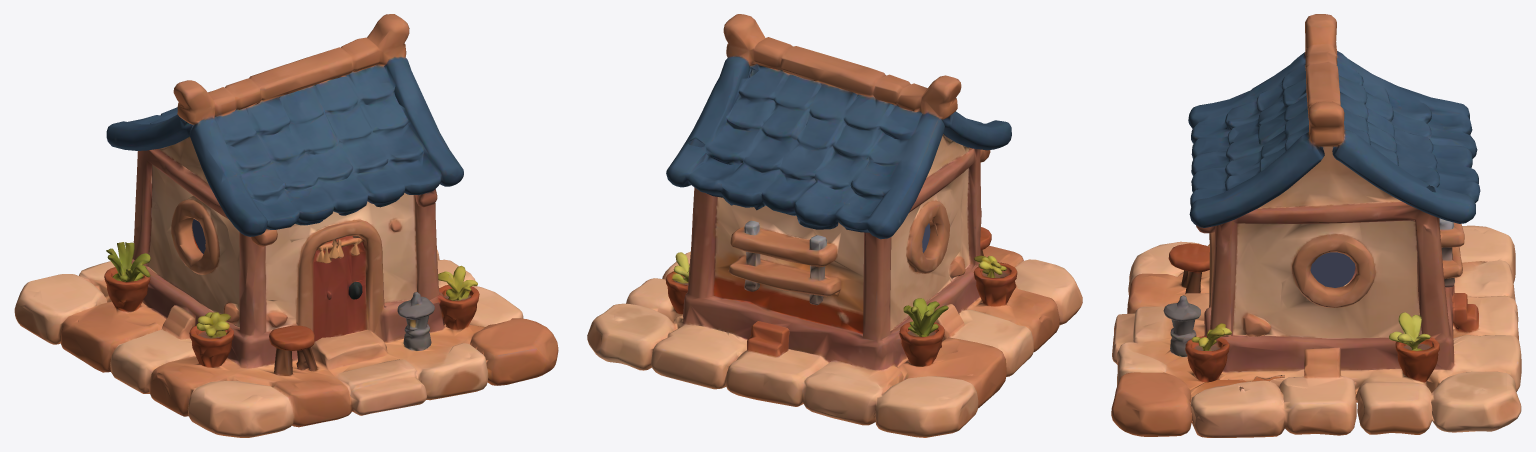
Rendered from mabry-house.glb.
3 renders of one model, left to right at view 1: azimuth 30°, elevation 25°; view 2: azimuth 150°, elevation 25°; view 3: azimuth 270°, elevation 25°, orthographic. The views are drawn at different scales.
Bounding box in the file's own units: 4.85 × 3.68 × 4.54.
Materials: 1 (1 with a texture image).
